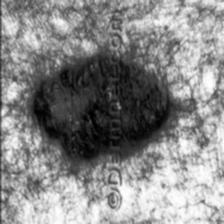Potentially Malignant Skin Tumors: (32, 52, 164, 168)
